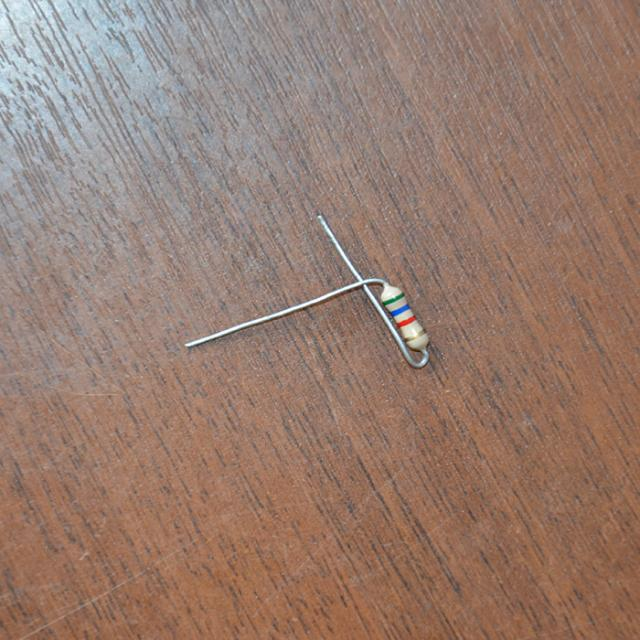blue: (389, 304, 408, 316)
gold: (403, 329, 426, 342)
green: (382, 292, 404, 304)
red: (397, 315, 415, 328)
resistor: (366, 276, 440, 354)
